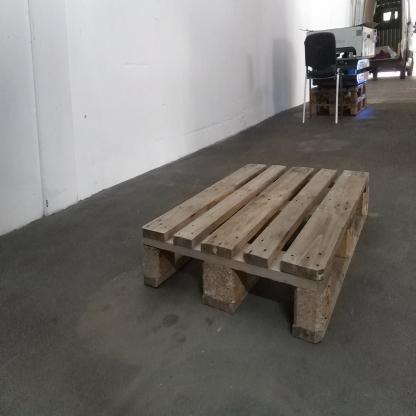BoxFace: (136, 160, 373, 352)
